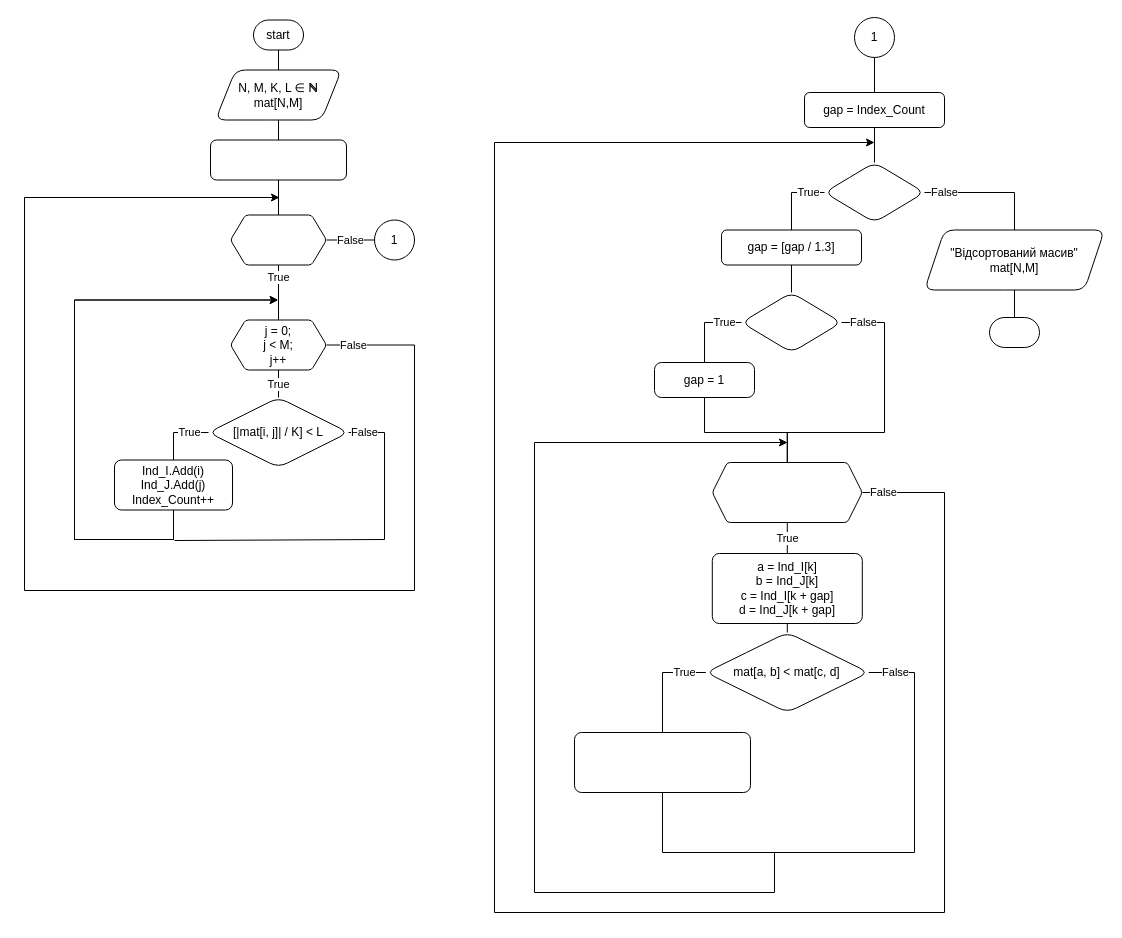
The diagram is 1122 pixels wide and 938 high, and some of its shapes have lost their labels. Each missing label, with the centre of its shape:
"end" belongs at point (1014, 332).
"gap != 1" belongs at point (874, 192).
"gap < 1" belongs at point (791, 322).
"i = 0; i < N; i++" belongs at point (278, 239).
"Index_Count = 0" belongs at point (278, 159).
"k = 0; k < Index_Count - gap; k++" belongs at point (786, 492).
"temp = mat[a, b] mat[a, b] = mat[c , d] mat[c, d] = temp" belongs at point (662, 762).
